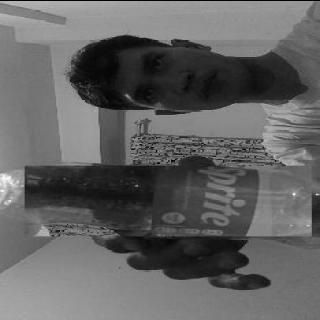plastic_bottles: (25, 164, 313, 236)
